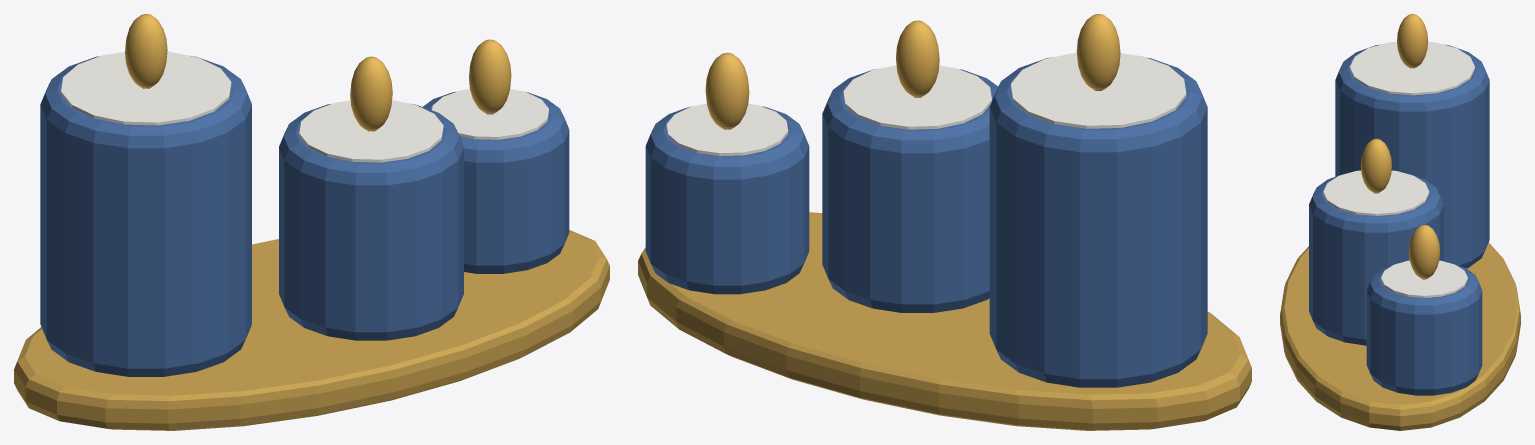
The model's file is hh_cat_candles.glb.
3 renders of one model, left to right at view 1: azimuth 30°, elevation 25°; view 2: azimuth 150°, elevation 25°; view 3: azimuth 270°, elevation 25°, orthographic. The views are drawn at different scales.
Visible parts, largest first — view 1: candle, dish, candle.001, candle.002, candle_pool, candle_pool.001, candle_pool.002, flame, flame.002, flame.001; view 2: candle, dish, candle.001, candle.002, candle_pool, candle_pool.001, candle_pool.002, flame.001, flame.002, flame; view 3: candle, dish, candle.002, candle.001, candle_pool, candle_pool.001, candle_pool.002, flame.001, flame, flame.002.
Boxes of the visible parts, x1,y1,x2,y2 form: candle: [40, 55, 251, 376]; dish: [14, 230, 609, 430]; candle.001: [279, 104, 463, 340]; candle.002: [423, 91, 569, 273]; candle_pool: [61, 51, 231, 125]; candle_pool.001: [299, 100, 443, 162]; candle_pool.002: [432, 89, 548, 139]; flame: [125, 14, 167, 88]; flame.002: [469, 39, 511, 113]; flame.001: [350, 56, 392, 131]; candle: [989, 57, 1207, 387]; dish: [638, 212, 1251, 430]; candle.001: [822, 69, 998, 312]; candle.002: [645, 106, 809, 294]; candle_pool: [1011, 52, 1186, 128]; candle_pool.001: [843, 65, 991, 129]; candle_pool.002: [666, 103, 788, 156]; flame.001: [896, 20, 939, 97]; flame.002: [705, 52, 749, 129]; flame: [1076, 14, 1120, 90]; candle: [1335, 44, 1489, 268]; dish: [1280, 242, 1520, 430]; candle.002: [1366, 262, 1482, 395]; candle.001: [1309, 172, 1443, 345]; candle_pool: [1350, 41, 1474, 95]; candle_pool.001: [1323, 170, 1429, 215]; candle_pool.002: [1381, 260, 1467, 297]; flame.001: [1360, 138, 1391, 192]; flame: [1397, 14, 1427, 68]; flame.002: [1409, 224, 1440, 278].
Size of the model in its own units: 0.2 by 0.12 by 0.1.
